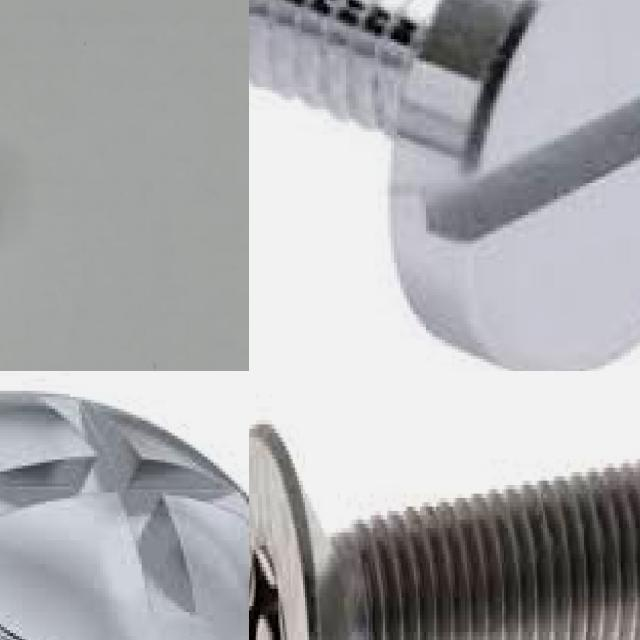Screw: (249, 0, 640, 371), (249, 424, 640, 640), (0, 391, 249, 640)
